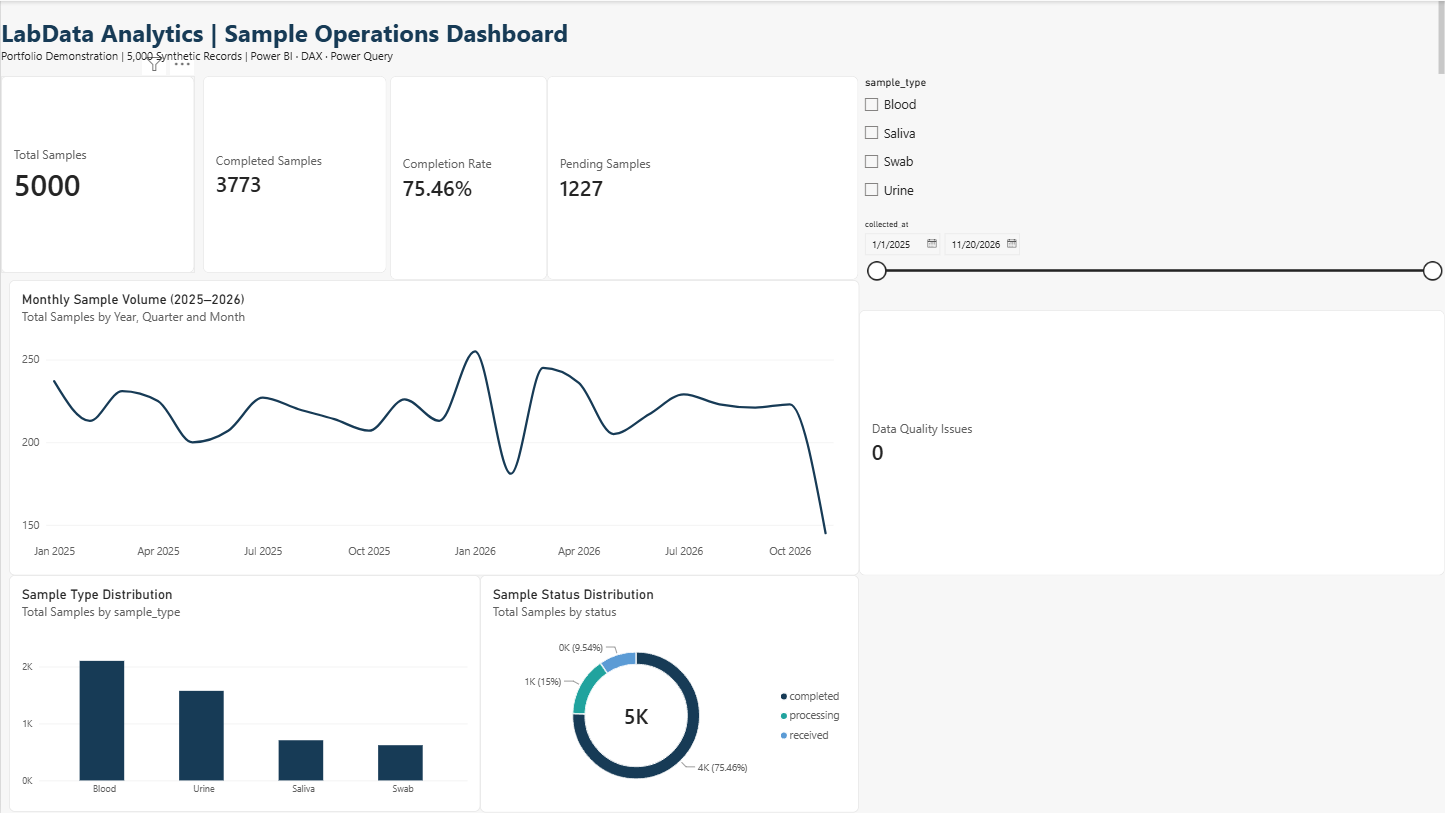

The dashboard page shown, as its layout file describes it:
{"tool":"powerbi","page":{"name":"Page 1","canvas":[1920,1080],"ordinal":0},"visuals":[{"type":"cardVisual","fields":{"Data":["LabData_Analytics_Synthetic.Total Samples"]},"box":[0,99.5,257.9,263],"z":0},{"type":"cardVisual","fields":{"Data":["LabData_Analytics_Synthetic.Completed Samples"]},"box":[268,99.5,244.4,263],"z":1000},{"type":"cardVisual","fields":{"Data":["LabData_Analytics_Synthetic.Completion Rate"]},"box":[517.5,99.5,209,271.4],"z":2000},{"type":"cardVisual","fields":{"Data":["LabData_Analytics_Synthetic.Pending Samples"]},"box":[726.5,99.5,414.7,271.4],"z":3000},{"type":"lineChart","title":"Monthly Sample Volume (2025–2026)","fields":{"Category":["LabData_Analytics_Synthetic.collected_at.Variation.Date Hierarchy.Year","LabData_Analytics_Synthetic.collected_at.Variation.Date Hierarchy.Quarter","LabData_Analytics_Synthetic.collected_at.Variation.Date Hierarchy.Month"],"Y":["LabData_Analytics_Synthetic.Total Samples"]},"box":[10.1,370.9,1131.1,392.8],"z":4000},{"type":"clusteredColumnChart","title":"Sample Type Distribution","fields":{"Category":["LabData_Analytics_Synthetic.sample_type"],"Y":["LabData_Analytics_Synthetic.Total Samples"]},"box":[10.1,763.6,627.1,315.2],"z":5000},{"type":"donutChart","title":"Sample Status Distribution","fields":{"Category":["LabData_Analytics_Synthetic.status"],"Y":["LabData_Analytics_Synthetic.Total Samples"]},"box":[637.2,763.6,504.3,315.6],"z":6000},{"type":"slicer","fields":{"Values":["LabData_Analytics_Synthetic.sample_type"]},"box":[1141.2,99.5,778.8,190.5],"z":7000},{"type":"slicer","fields":{"Values":["LabData_Analytics_Synthetic.collected_at"]},"box":[1141.2,289.9,778.8,121.4],"z":8000},{"type":"textbox","box":[0,0,1920,99.5],"z":9000},{"type":"textbox","box":[100,100,300,300],"z":10000},{"type":"cardVisual","fields":{"Data":["LabData_Analytics_Synthetic.Data Quality Issues"]},"box":[1141.2,411.3,779,353],"z":11000}]}

Visuals, with their boxes in screenshot pixels (x1, y1, x2, y2), scaled from the page's 1920x1080 canvas onto the 1445x813 screenshot:
cardVisual - LabData_Analytics_Synthetic.Total Samples: bbox=[0, 75, 194, 273]
cardVisual - LabData_Analytics_Synthetic.Completed Samples: bbox=[202, 75, 386, 273]
cardVisual - LabData_Analytics_Synthetic.Completion Rate: bbox=[389, 75, 547, 279]
cardVisual - LabData_Analytics_Synthetic.Pending Samples: bbox=[547, 75, 859, 279]
"Monthly Sample Volume (2025–2026)" lineChart: bbox=[8, 279, 859, 575]
"Sample Type Distribution" clusteredColumnChart: bbox=[8, 575, 480, 812]
"Sample Status Distribution" donutChart: bbox=[480, 575, 859, 812]
slicer - LabData_Analytics_Synthetic.sample_type: bbox=[859, 75, 1444, 218]
slicer - LabData_Analytics_Synthetic.collected_at: bbox=[859, 218, 1444, 310]
textbox: bbox=[0, 0, 1444, 75]
textbox: bbox=[75, 75, 301, 301]
cardVisual - LabData_Analytics_Synthetic.Data Quality Issues: bbox=[859, 310, 1444, 575]
